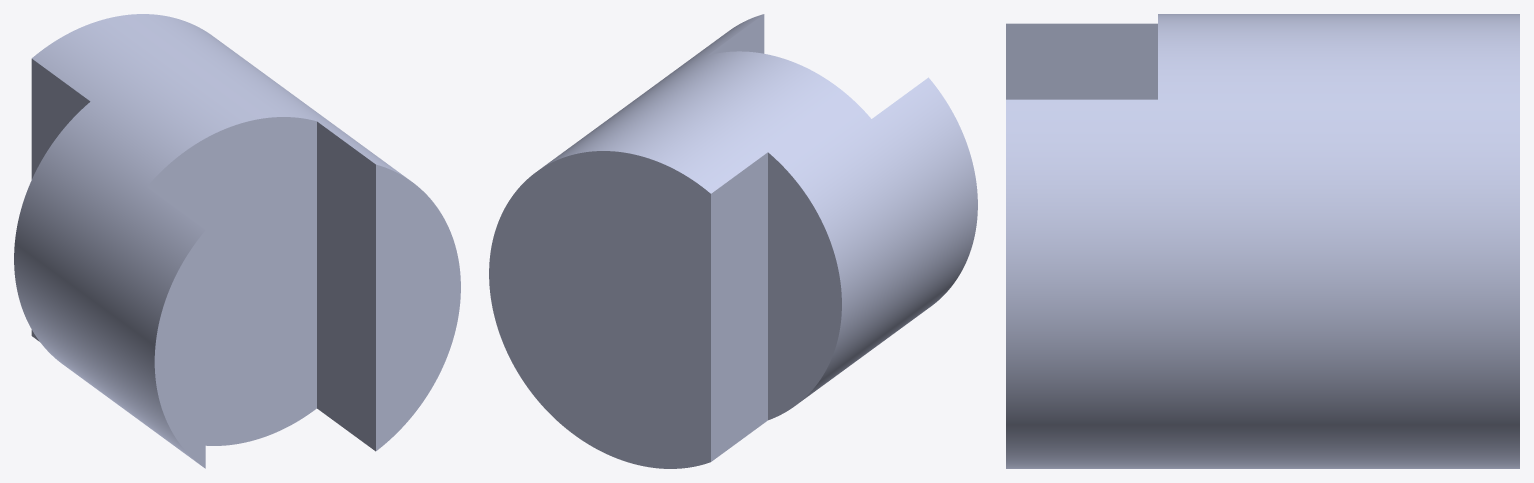
3 renders of one model, left to right at view 1: azimuth 30°, elevation 25°; view 2: azimuth 150°, elevation 25°; view 3: azimuth 270°, elevation 25°, orthographic. The views are drawn at different scales.
Visible parts, largest first — view 1: 拉伸3; view 2: 拉伸3; view 3: 拉伸3.
Boxes of the visible parts, <box> form: 拉伸3: <box>14,14,460,468</box>; 拉伸3: <box>489,14,977,468</box>; 拉伸3: <box>1006,14,1519,468</box>.
Size of the model in its own units: 3.54 by 3.54 by 4.
